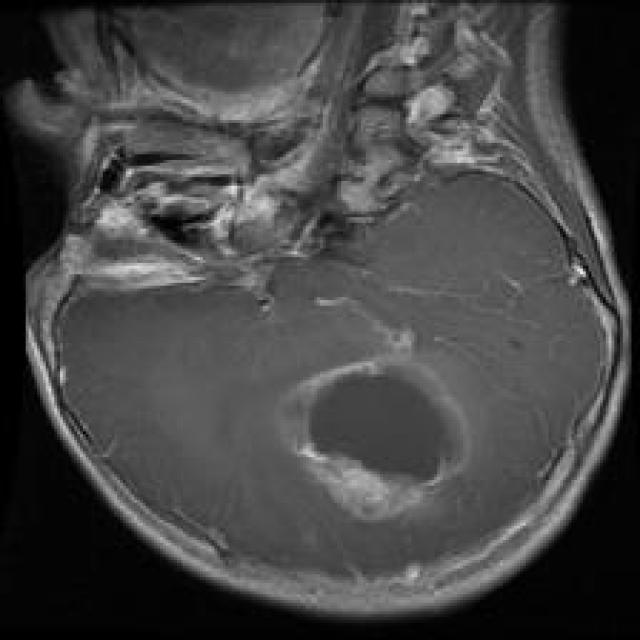glioma_tumor: (268, 330, 481, 537)
